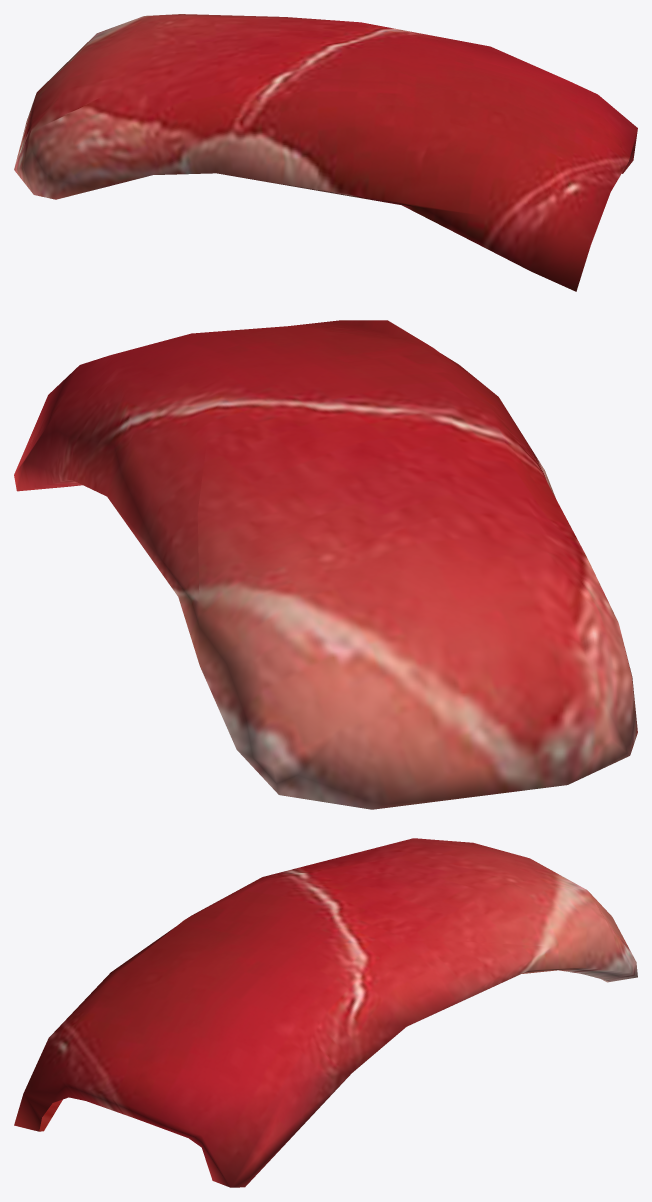
File: _unasashimi.fbx
3 renders of one model, top to bottom at view 1: azimuth 30°, elevation 25°; view 2: azimuth 150°, elevation 25°; view 3: azimuth 270°, elevation 25°, orthographic. The views are drawn at different scales.
Visible parts, largest first — view 1: Salmon 4.008; view 2: Salmon 4.008; view 3: Salmon 4.008.
Part boxes in pixels (x1,y1,x2,y2): Salmon 4.008: (14,14,637,291); Salmon 4.008: (14,320,637,809); Salmon 4.008: (14,838,637,1187).
Size of the model in its own units: 101 by 31.64 by 102.
Materials: 1 (1 with a texture image).
